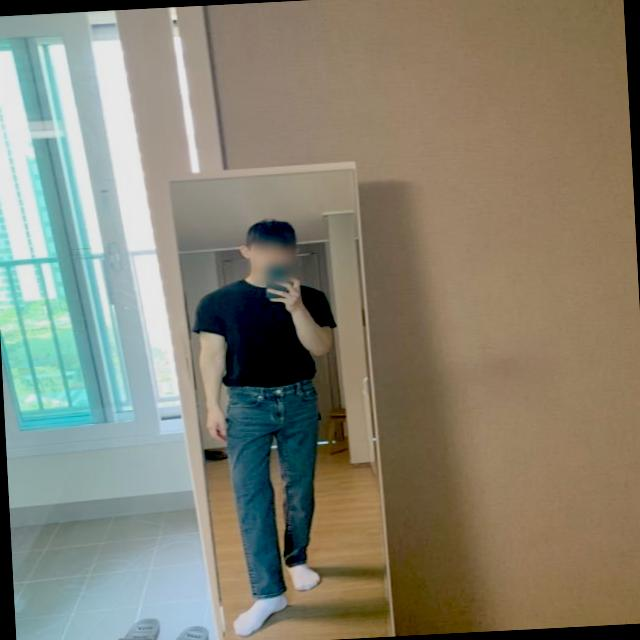denimpants: (221, 382, 328, 600)
shortsleeve: (194, 274, 339, 390)
